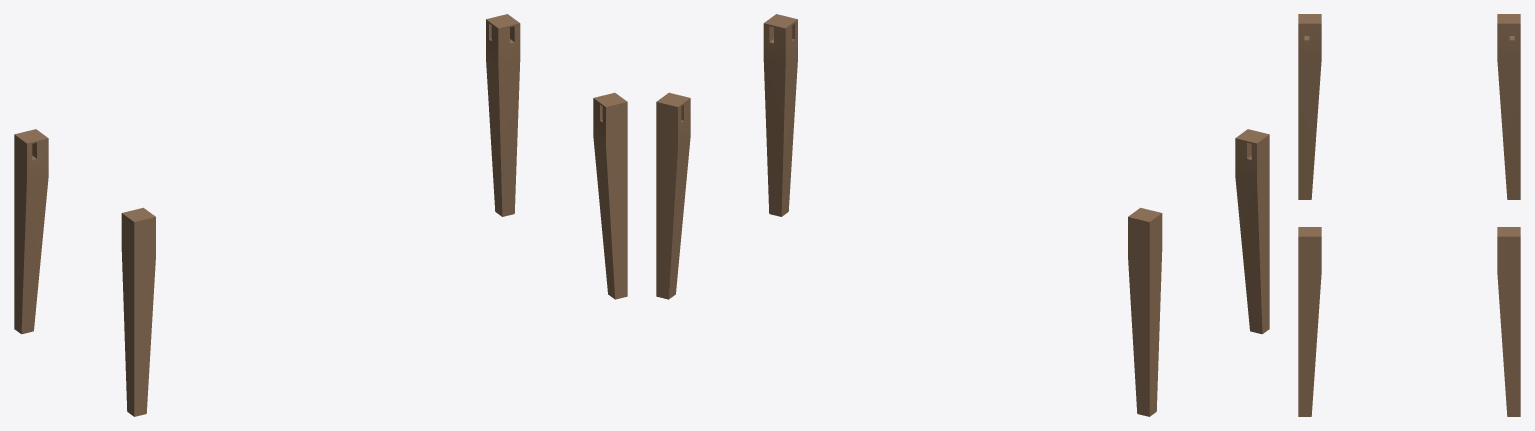
The model's file is Legs_SquareTaper.glb.
3 views of the same model, side by side, from view 1: azimuth 30°, elevation 25°; view 2: azimuth 150°, elevation 25°; view 3: azimuth 270°, elevation 25° (orthographic). The views are drawn at different scales.
Parts seen in each view (by area): view 1: Legs_SquareTaper; view 2: Legs_SquareTaper; view 3: Legs_SquareTaper.
Boxes of the visible parts, x1,y1,x2,y2 form: Legs_SquareTaper: [14, 14, 627, 416]; Legs_SquareTaper: [656, 14, 1269, 416]; Legs_SquareTaper: [1298, 14, 1520, 416].
Bounding box in the file's own units: 1.01 × 0.381 × 0.4255.
